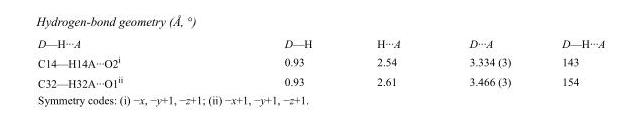table: (37, 36, 604, 89)
table column: (37, 36, 202, 89), (202, 36, 343, 89), (434, 36, 535, 89), (343, 36, 434, 89), (535, 36, 604, 89)
table row: (37, 51, 604, 71), (37, 71, 604, 89), (37, 36, 604, 51)
